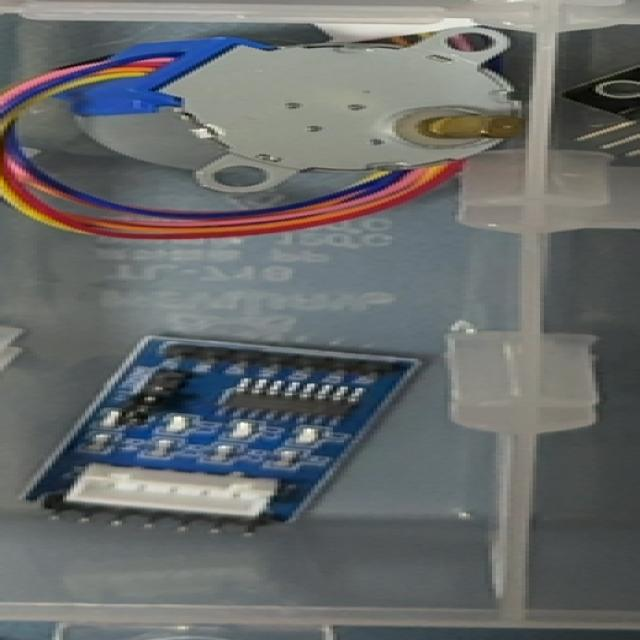Stepper Motor: (61, 22, 546, 195)
Stepper Motor Board: (44, 330, 423, 536)
